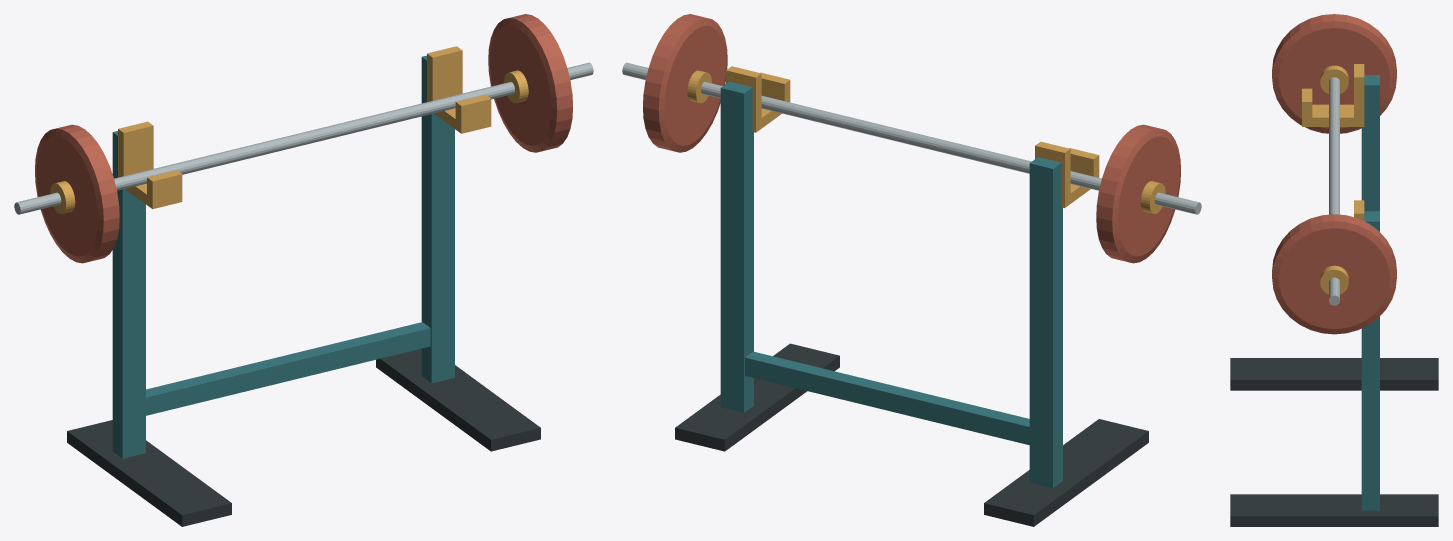
3 renders of one model, left to right at view 1: azimuth 30°, elevation 25°; view 2: azimuth 150°, elevation 25°; view 3: azimuth 270°, elevation 25°, orthographic. The views are drawn at different scales.
Parts seen in each view (by area): view 1: Rack_Upright_Right, Rack_Upright_Left, Weight_Right_PiercedPlate, Weight_Left_PiercedPlate, Rack_LowRearCrossbrace, Rack_Foot_Left, Rack_Foot_Right, Bar_ContinuousShaft, Rack_JCradle_Right, Rack_JCradle_Left; view 2: Rack_Upright_Left, Rack_Upright_Right, Weight_Left_PiercedPlate, Weight_Right_PiercedPlate, Rack_LowRearCrossbrace, Rack_Foot_Left, Bar_ContinuousShaft, Rack_Foot_Right, Rack_JCradle_Right, Rack_JCradle_Left; view 3: Weight_Right_PiercedPlate, Weight_Left_PiercedPlate, Rack_Foot_Right, Rack_Foot_Left, Rack_Upright_Right, Rack_Upright_Left, Rack_JCradle_Left, Bar_ContinuousShaft, Weight_Right_OuterRing, Weight_Left_InnerRing.
Boxes of the visible parts, x1=… form: Rack_Upright_Right: x1=421, y1=55, x2=454, y2=383; Rack_Upright_Left: x1=112, y1=131, x2=145, y2=458; Weight_Right_PiercedPlate: x1=488, y1=14, x2=572, y2=152; Weight_Left_PiercedPlate: x1=35, y1=124, x2=119, y2=263; Rack_LowRearCrossbrace: x1=146, y1=322, x2=430, y2=415; Rack_Foot_Left: x1=67, y1=420, x2=231, y2=526; Rack_Foot_Right: x1=376, y1=348, x2=540, y2=451; Bar_ContinuousShaft: x1=14, y1=62, x2=593, y2=214; Rack_JCradle_Right: x1=427, y1=46, x2=491, y2=133; Rack_JCradle_Left: x1=118, y1=121, x2=182, y2=209; Rack_Upright_Left: x1=1029, y1=157, x2=1062, y2=488; Rack_Upright_Right: x1=720, y1=81, x2=753, y2=412; Weight_Left_PiercedPlate: x1=1096, y1=124, x2=1180, y2=263; Weight_Right_PiercedPlate: x1=643, y1=14, x2=727, y2=152; Rack_LowRearCrossbrace: x1=745, y1=351, x2=1029, y2=445; Rack_Foot_Left: x1=984, y1=419, x2=1148, y2=526; Bar_ContinuousShaft: x1=622, y1=62, x2=1201, y2=214; Rack_Foot_Right: x1=675, y1=343, x2=839, y2=451; Rack_JCradle_Right: x1=726, y1=66, x2=790, y2=132; Rack_JCradle_Left: x1=1035, y1=141, x2=1099, y2=207; Weight_Right_PiercedPlate: x1=1272, y1=214, x2=1396, y2=334; Weight_Left_PiercedPlate: x1=1272, y1=14, x2=1396, y2=133; Rack_Foot_Right: x1=1230, y1=494, x2=1438, y2=526; Rack_Foot_Left: x1=1230, y1=358, x2=1438, y2=390; Rack_Upright_Right: x1=1361, y1=211, x2=1379, y2=510; Rack_Upright_Left: x1=1361, y1=75, x2=1379, y2=211; Rack_JCradle_Left: x1=1302, y1=64, x2=1364, y2=126; Bar_ContinuousShaft: x1=1329, y1=77, x2=1339, y2=305; Weight_Right_OuterRing: x1=1320, y1=265, x2=1348, y2=294; Weight_Left_InnerRing: x1=1320, y1=65, x2=1348, y2=93.
Bounding box in the file's own units: 2.3 × 1.4 × 0.8.
